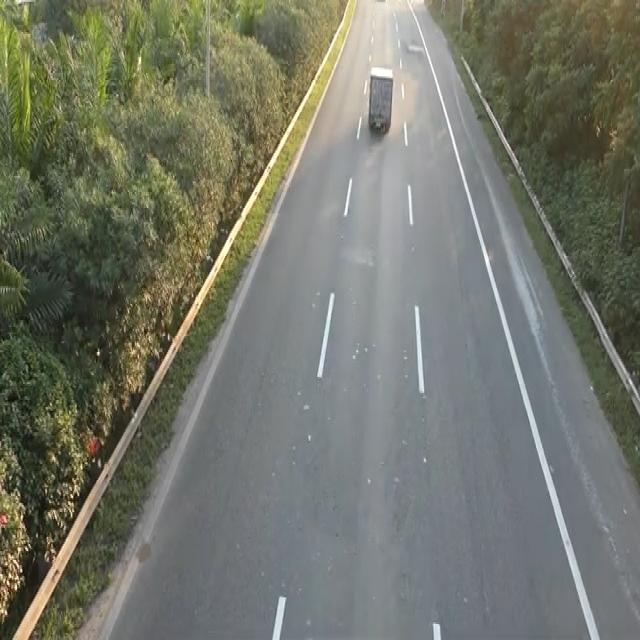minivan: (366, 64, 394, 135)
